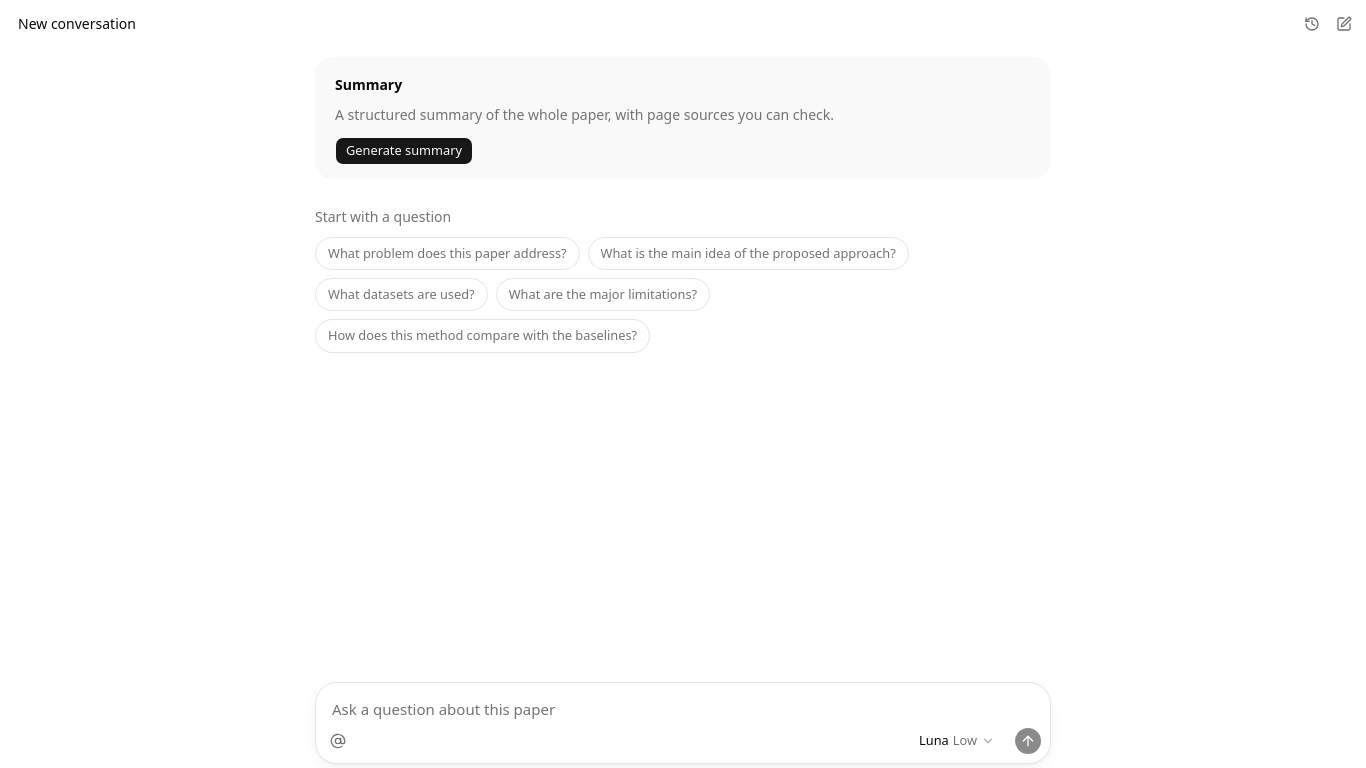
Test: Given no chats, Then the history says "No chats yet"
Click the button named "Chat history": [1312, 24] box [1298,10,1326,38]
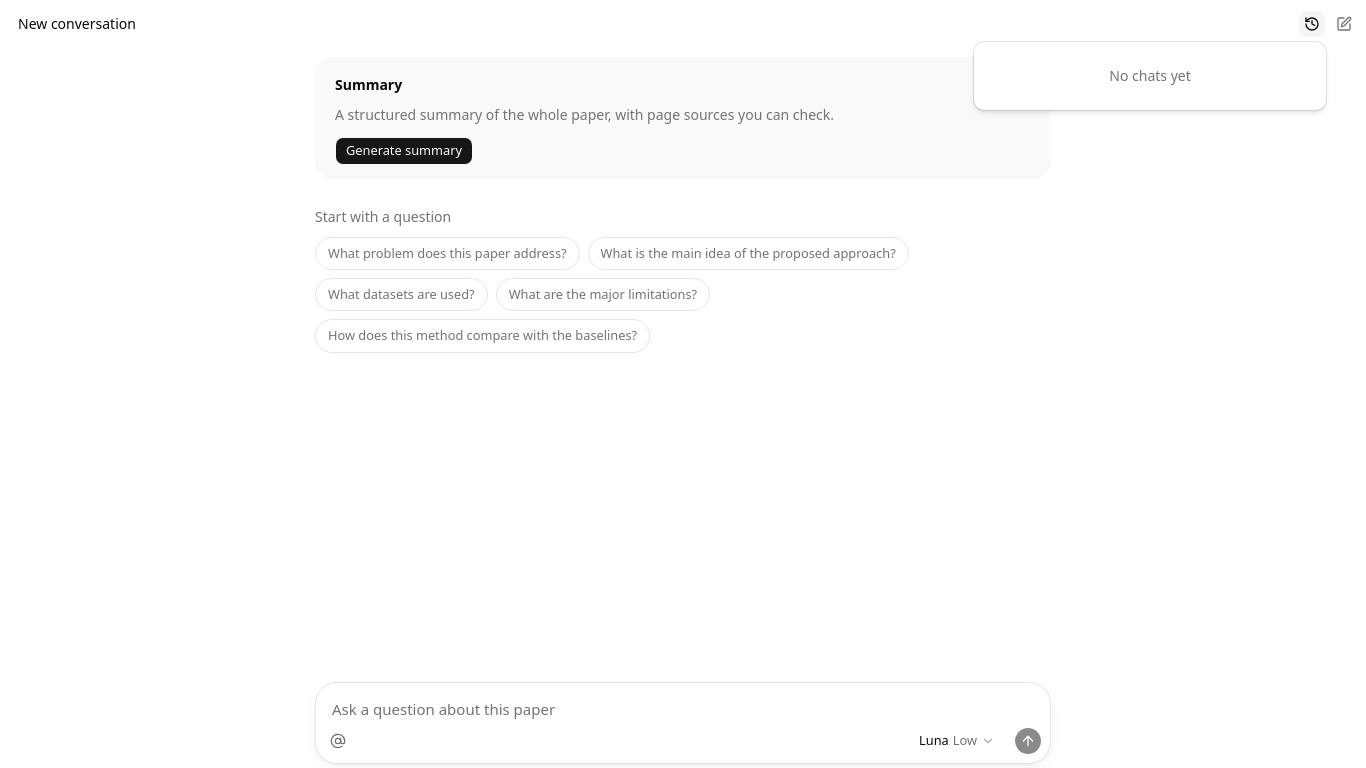
Expected: the text "No chats yet" is shown, [1109,66,1191,85]
